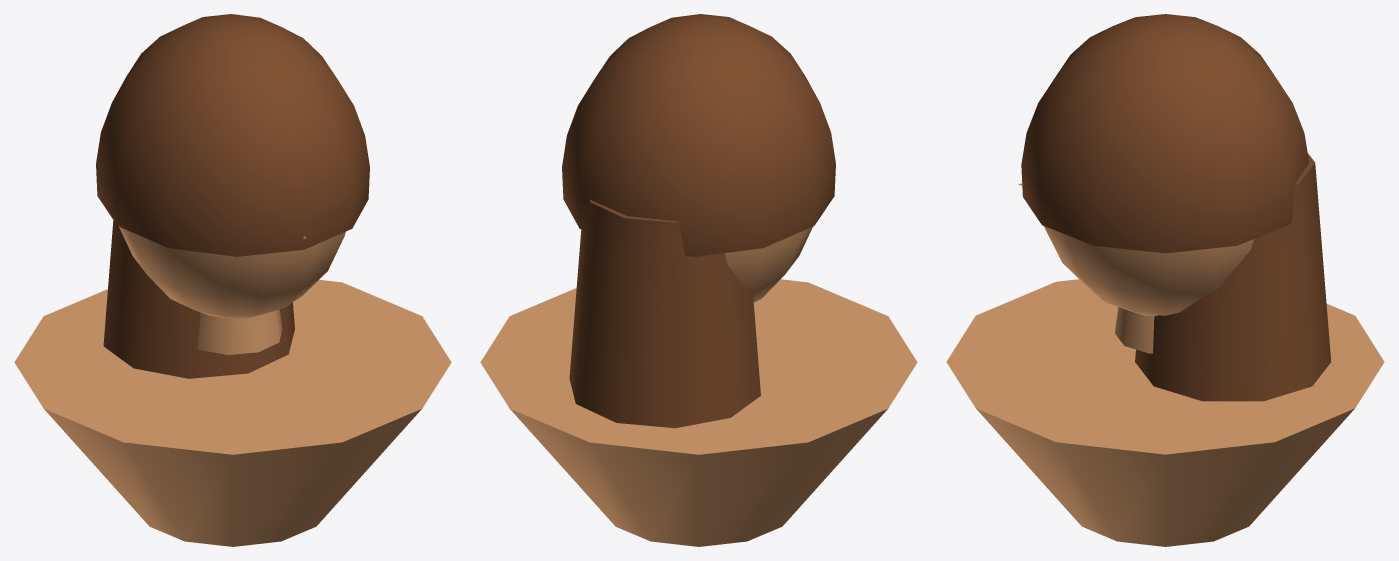
The model's file is raw_002.glb.
The picture shows the model from 3 angles, left to right: view 1: azimuth 30°, elevation 25°; view 2: azimuth 150°, elevation 25°; view 3: azimuth 270°, elevation 25°; orthographic projection.
Size of the model in its own units: 1.81 by 2.2 by 1.81.
